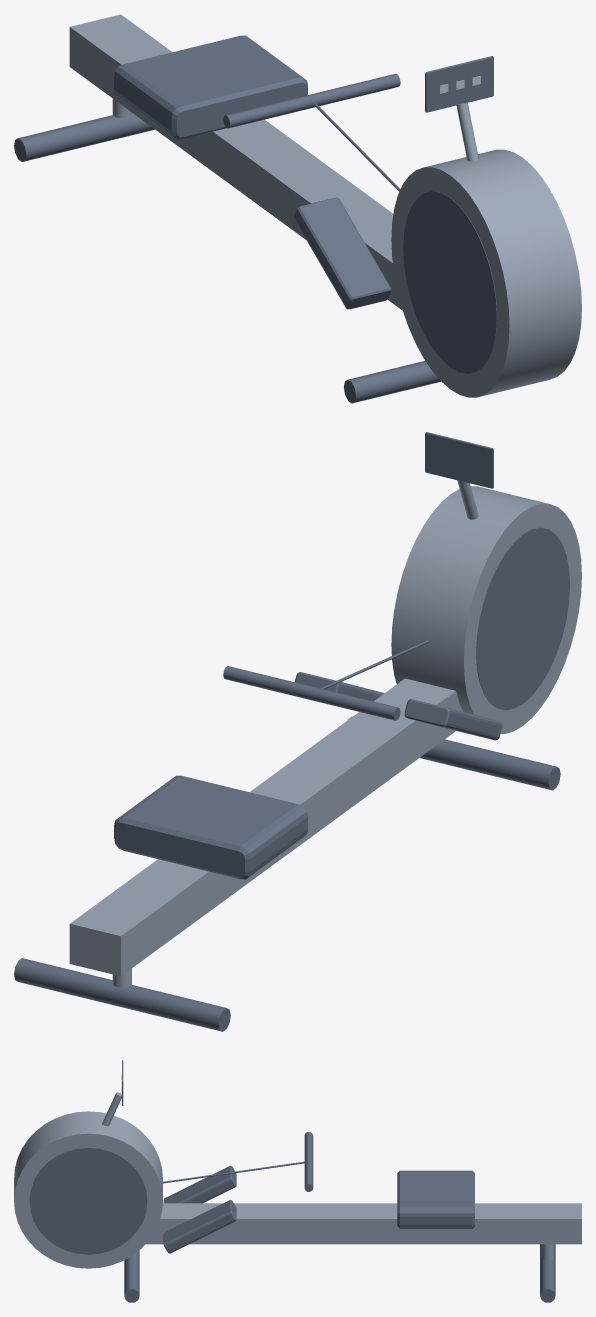
Rendered from rowing-machine-lite.glb.
3 views of the same model, one above another, from view 1: azimuth 30°, elevation 25°; view 2: azimuth 150°, elevation 25°; view 3: azimuth 270°, elevation 25° (orthographic). The views are drawn at different scales.
Visible parts, largest first — view 1: body, dark; view 2: body, dark; view 3: body, dark.
Part boxes in pixels (<box>): body: <box>69,14,581,397</box>; dark: <box>14,35,497,403</box>; body: <box>69,480,581,987</box>; dark: <box>14,432,569,1031</box>; body: <box>14,1092,581,1268</box>; dark: <box>29,1060,555,1302</box>.
Size of the model in its own units: 0.48 by 0.7138 by 1.83.
